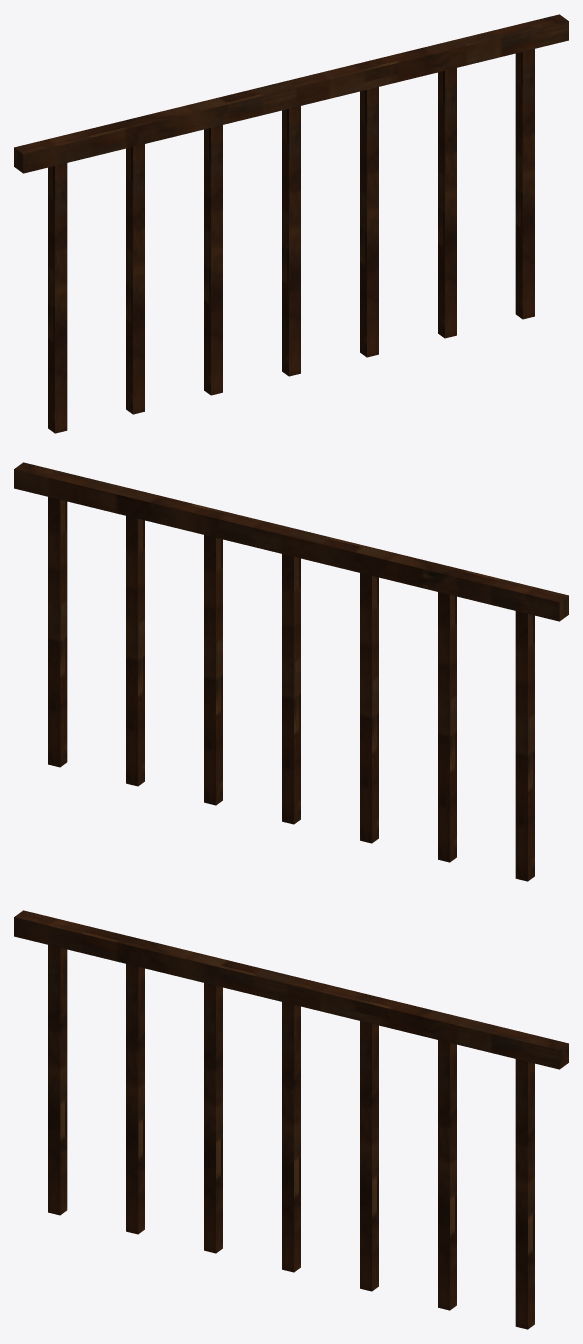
Rendered from Model_FlatBanister.glb.
The picture shows the model from 3 angles, top to bottom: view 1: azimuth 30°, elevation 25°; view 2: azimuth 150°, elevation 25°; view 3: azimuth 330°, elevation 25°; orthographic projection.
Parts seen in each view (by area): view 1: StairBanister.001, FlatBanister; view 2: StairBanister.001, FlatBanister; view 3: StairBanister.001, FlatBanister.
Part boxes in pixels (x1,y1,x2,y2): StairBanister.001: (48,49,534,433); FlatBanister: (14,14,568,173); StairBanister.001: (48,497,534,881); FlatBanister: (14,462,568,621); StairBanister.001: (48,945,534,1329); FlatBanister: (14,910,568,1069).
Size of the model in its own units: 2 by 1.01 by 0.0597.
Materials: 1 (1 with a texture image).
